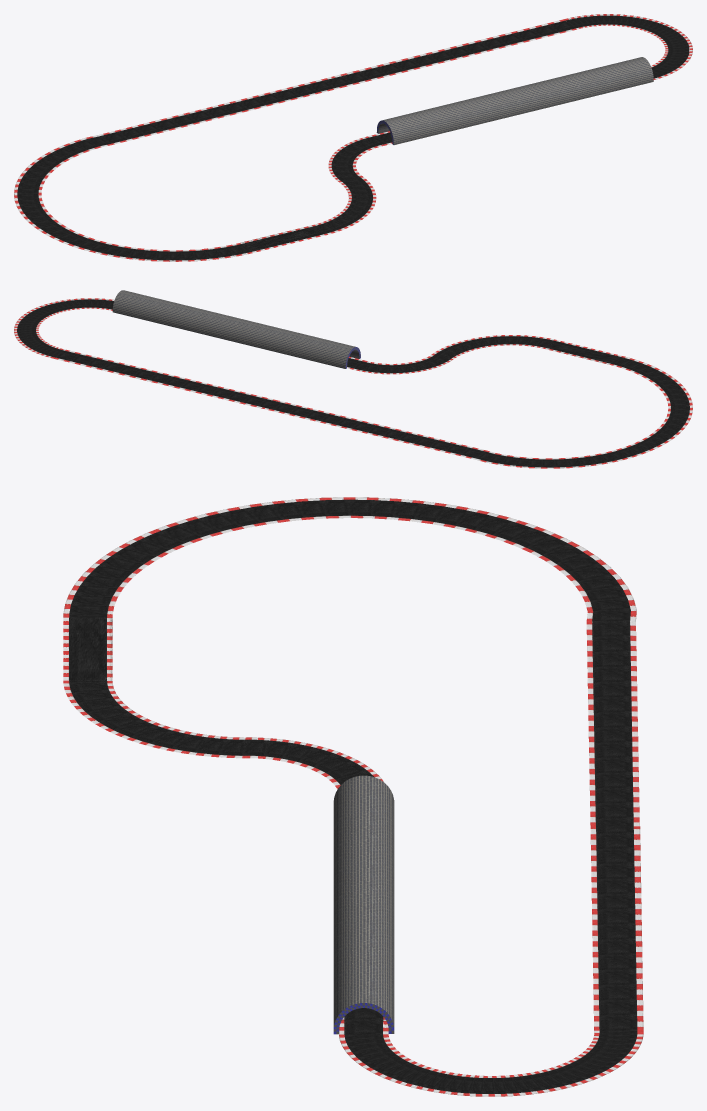
The model's file is Track.obj.
3 views of the same model, one above another, from view 1: azimuth 30°, elevation 25°; view 2: azimuth 150°, elevation 25°; view 3: azimuth 270°, elevation 25° (orthographic). The views are drawn at different scales.
Parts seen in each view (by area): view 1: Cube.003_Cube.005, Plane_Plane.002, Plane.006_Plane.019, Plane.005_Plane.011, Plane.014, Plane.009_Plane.004, Plane.007_Plane.001, Plane.012, Plane.013_Plane.006, Plane.001_Plane.020, Plane.003_Plane.027, Plane.000_Plane.025; view 2: Cube.003_Cube.005, Plane_Plane.002, Plane.006_Plane.019, Plane.005_Plane.011, Plane.014, Plane.009_Plane.004, Plane.007_Plane.001, Plane.012, Plane.013_Plane.006, Plane.001_Plane.020, Plane.003_Plane.027, Plane.000_Plane.025; view 3: Plane_Plane.002, Cube.003_Cube.005, Plane.006_Plane.019, Plane.014, Plane.005_Plane.011, Plane.009_Plane.004, Plane.007_Plane.001, Plane.013_Plane.006, Plane.012, Plane.001_Plane.020, Plane.003_Plane.027, Plane.000_Plane.025 (+1 smaller).
Part boxes in pixels (box(x1,y1,x2,y2)): Cube.003_Cube.005: box(382, 57, 653, 144); Plane_Plane.002: box(100, 20, 575, 143); Plane.006_Plane.019: box(17, 136, 250, 260); Plane.005_Plane.011: box(313, 137, 381, 233); Plane.014: box(565, 15, 689, 78); Plane.009_Plane.004: box(14, 135, 252, 261); Plane.007_Plane.001: box(98, 77, 344, 144); Plane.012: box(312, 136, 382, 235); Plane.013_Plane.006: box(241, 226, 323, 251); Plane.001_Plane.020: box(563, 14, 692, 79); Plane.003_Plane.027: box(331, 19, 564, 78); Plane.000_Plane.025: box(343, 28, 576, 86); Cube.003_Cube.005: box(112, 290, 355, 368); Plane_Plane.002: box(56, 351, 485, 458); Plane.006_Plane.019: box(476, 357, 689, 467); Plane.005_Plane.011: box(356, 336, 555, 373); Plane.014: box(17, 299, 113, 357); Plane.009_Plane.004: box(475, 356, 692, 468); Plane.007_Plane.001: box(264, 400, 486, 459); Plane.012: box(355, 335, 556, 374); Plane.013_Plane.006: box(547, 341, 620, 363); Plane.001_Plane.020: box(14, 298, 114, 358); Plane.003_Plane.027: box(54, 357, 264, 408); Plane.000_Plane.025: box(65, 350, 275, 400); Plane_Plane.002: box(592, 621, 637, 1030); Cube.003_Cube.005: box(333, 775, 394, 1027); Plane.006_Plane.019: box(69, 499, 630, 621); Plane.014: box(344, 1030, 637, 1093); Plane.005_Plane.011: box(69, 680, 373, 784); Plane.009_Plane.004: box(63, 497, 636, 621); Plane.007_Plane.001: box(586, 621, 639, 826); Plane.013_Plane.006: box(69, 617, 106, 680); Plane.012: box(63, 680, 383, 789); Plane.001_Plane.020: box(339, 1030, 643, 1096); Plane.003_Plane.027: box(633, 826, 643, 1030); Plane.000_Plane.025: box(590, 826, 599, 1030).
Size of the model in its own units: 96.64 by 2.35 by 39.53.
Materials: 6 (6 with a texture image).
